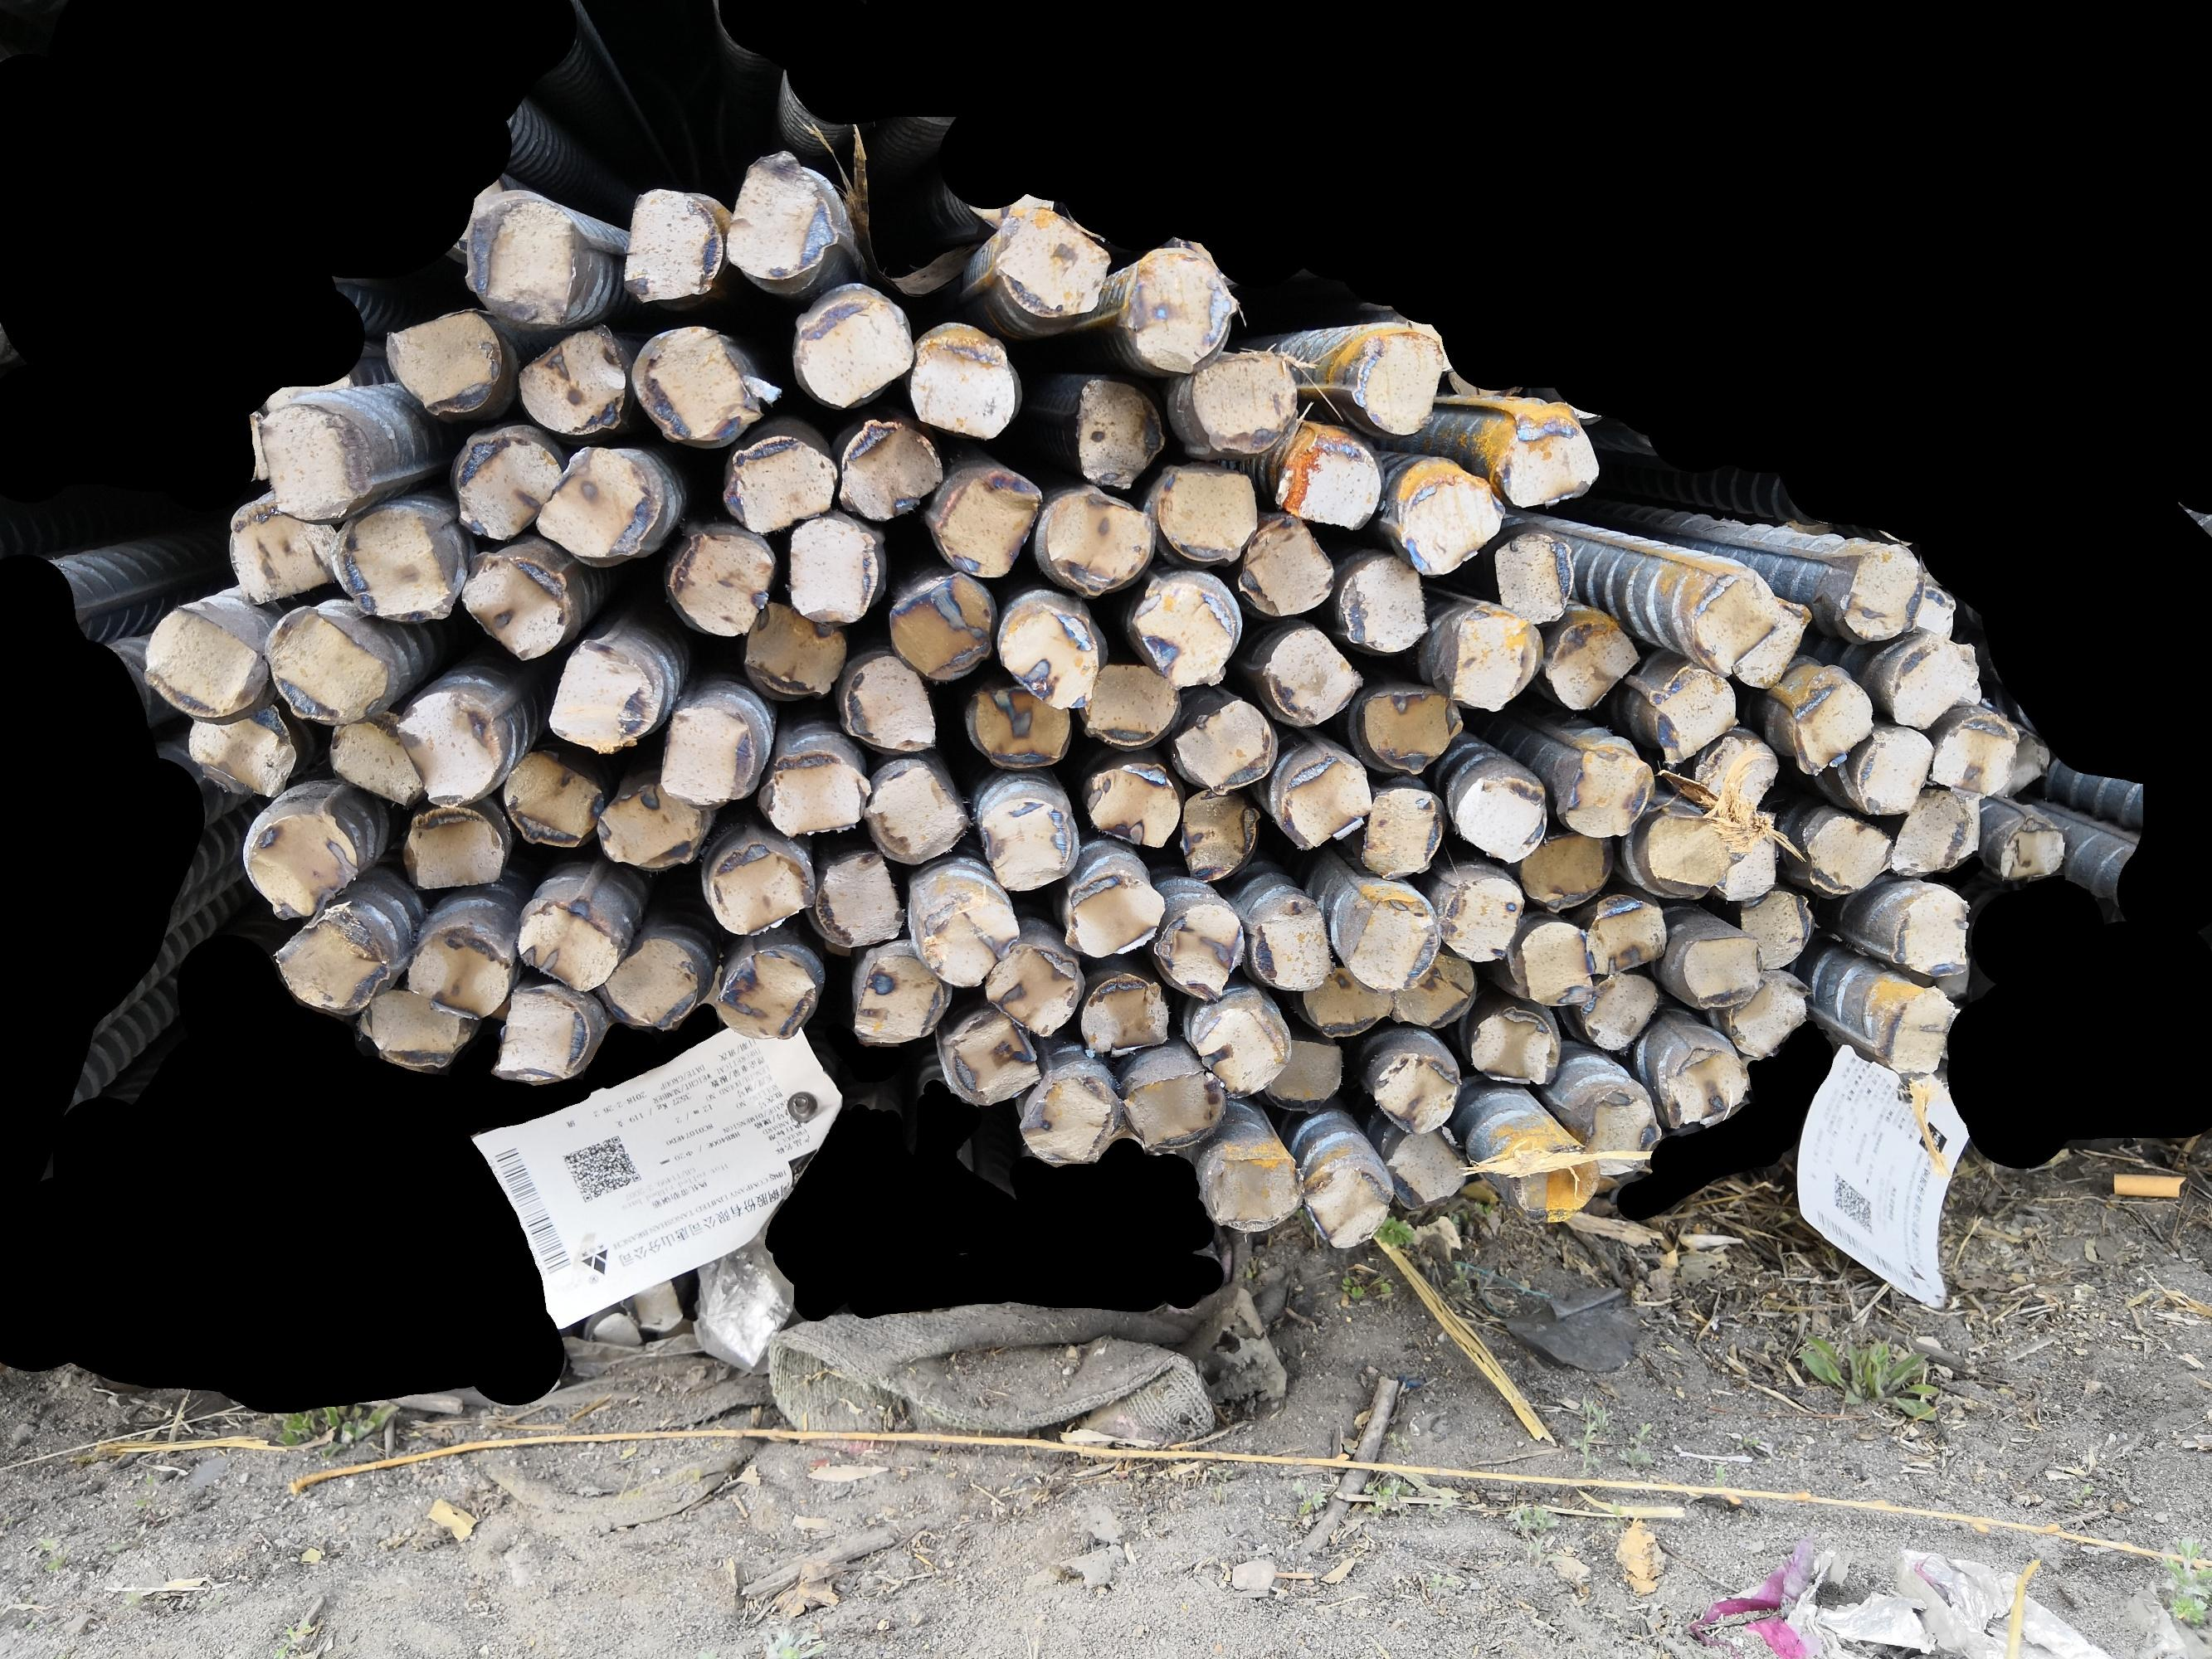bar: (722, 143, 847, 288), (629, 319, 767, 448), (1117, 239, 1245, 376), (458, 185, 577, 329), (256, 603, 390, 730), (251, 399, 382, 526), (528, 439, 662, 563), (138, 601, 270, 725), (987, 202, 1112, 326), (329, 502, 455, 624), (793, 288, 919, 410), (390, 685, 509, 814), (378, 303, 509, 420), (220, 491, 350, 606), (544, 633, 662, 758), (265, 901, 394, 1014), (511, 317, 631, 437), (906, 866, 1023, 990), (1123, 570, 1239, 692), (241, 805, 364, 918), (905, 319, 1018, 443), (448, 425, 565, 544), (884, 563, 999, 683), (720, 423, 842, 537), (619, 181, 727, 308), (1184, 981, 1292, 1107), (1476, 406, 1604, 512), (1391, 465, 1508, 579), (666, 521, 777, 640), (931, 465, 1042, 584), (1191, 345, 1304, 460), (1269, 423, 1386, 535), (458, 551, 573, 662), (859, 756, 974, 868), (1065, 373, 1170, 495), (988, 598, 1102, 709), (1039, 479, 1154, 589), (830, 415, 947, 523), (1150, 457, 1262, 568), (967, 789, 1084, 894), (783, 511, 885, 629), (741, 596, 854, 702), (838, 647, 943, 762), (485, 983, 594, 1089), (500, 742, 607, 852), (1231, 509, 1337, 619), (706, 836, 819, 939), (399, 924, 514, 1025), (760, 742, 877, 842), (354, 983, 479, 1075), (180, 704, 298, 802), (1257, 622, 1365, 728), (847, 938, 952, 1047), (980, 938, 1089, 1042), (1349, 322, 1449, 437), (1684, 563, 1781, 680), (593, 777, 711, 873), (1112, 1061, 1231, 1157), (655, 702, 760, 810), (1332, 547, 1435, 657), (1168, 694, 1276, 796), (1438, 610, 1546, 713), (1537, 615, 1644, 718), (1637, 803, 1743, 906), (809, 845, 910, 953), (1879, 781, 1987, 882), (960, 678, 1081, 769), (1645, 659, 1741, 772), (1055, 866, 1170, 960), (1016, 1070, 1123, 1171), (594, 932, 702, 1032), (1780, 673, 1879, 781), (511, 897, 621, 995), (709, 943, 819, 1040), (397, 798, 509, 894), (1558, 739, 1659, 843), (1340, 890, 1443, 992), (1447, 769, 1553, 866), (1075, 657, 1185, 751), (943, 1004, 1041, 1108), (1276, 748, 1374, 852), (1794, 805, 1898, 903), (1150, 897, 1246, 1004), (1351, 680, 1457, 775), (1075, 756, 1184, 850), (1830, 540, 1930, 641), (1297, 1155, 1398, 1251), (1497, 1136, 1605, 1225), (1684, 728, 1785, 823), (1919, 709, 2020, 803), (1884, 638, 1982, 734), (1656, 1040, 1755, 1134), (1354, 782, 1447, 884), (1201, 1148, 1306, 1237), (1075, 969, 1175, 1061), (1245, 894, 1337, 993), (1431, 868, 1523, 965), (1517, 824, 1616, 915), (1363, 1047, 1464, 1136), (1175, 784, 1262, 887), (326, 716, 424, 807), (1849, 720, 1937, 821), (1490, 526, 1576, 629), (1729, 594, 1816, 694), (1576, 1084, 1668, 1176), (1579, 889, 1672, 981), (1464, 1002, 1562, 1089), (1891, 880, 1975, 981), (1722, 969, 1813, 1060), (1576, 964, 1665, 1056), (1511, 915, 1597, 1009), (1299, 960, 1398, 1040), (1381, 1124, 1471, 1211), (1255, 1032, 1349, 1115), (1677, 929, 1769, 1012), (1877, 983, 1958, 1079), (1705, 809, 1783, 906), (1734, 882, 1815, 976), (1388, 946, 1478, 1028), (1989, 812, 2074, 887), (1984, 725, 2053, 802), (1905, 580, 1966, 647), (1942, 659, 1989, 709)
